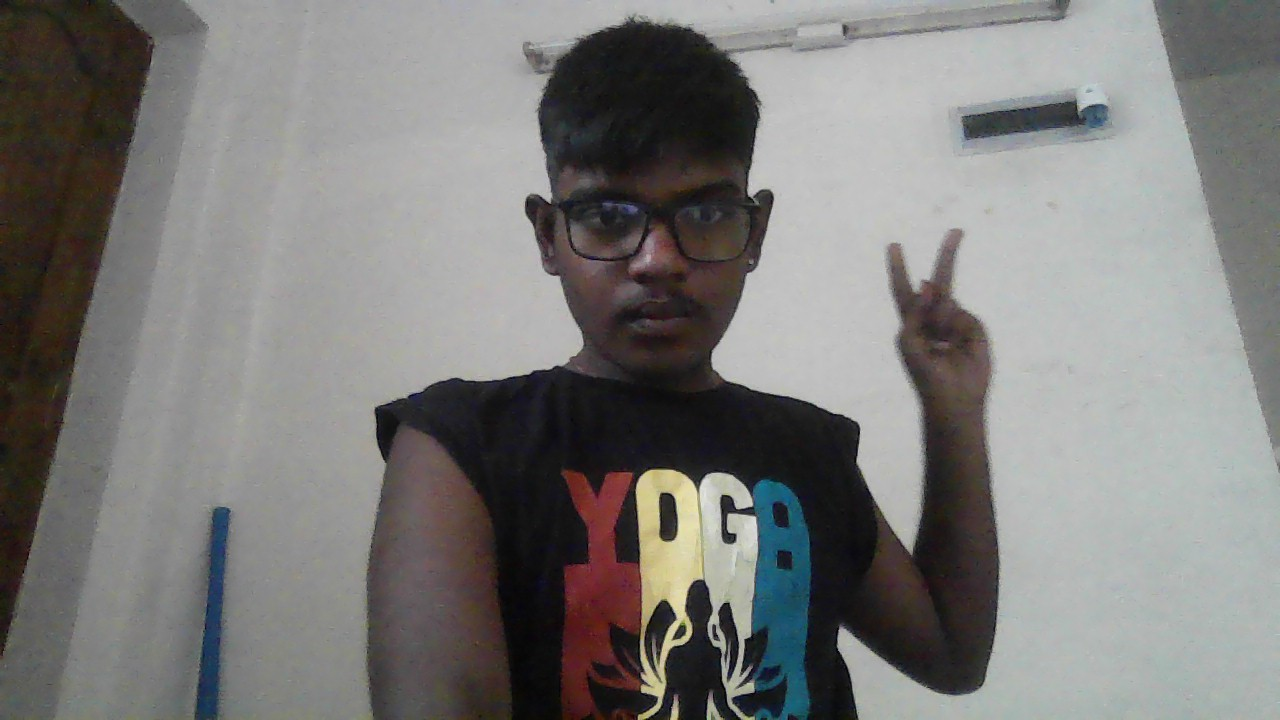K: (885, 226, 993, 431)
